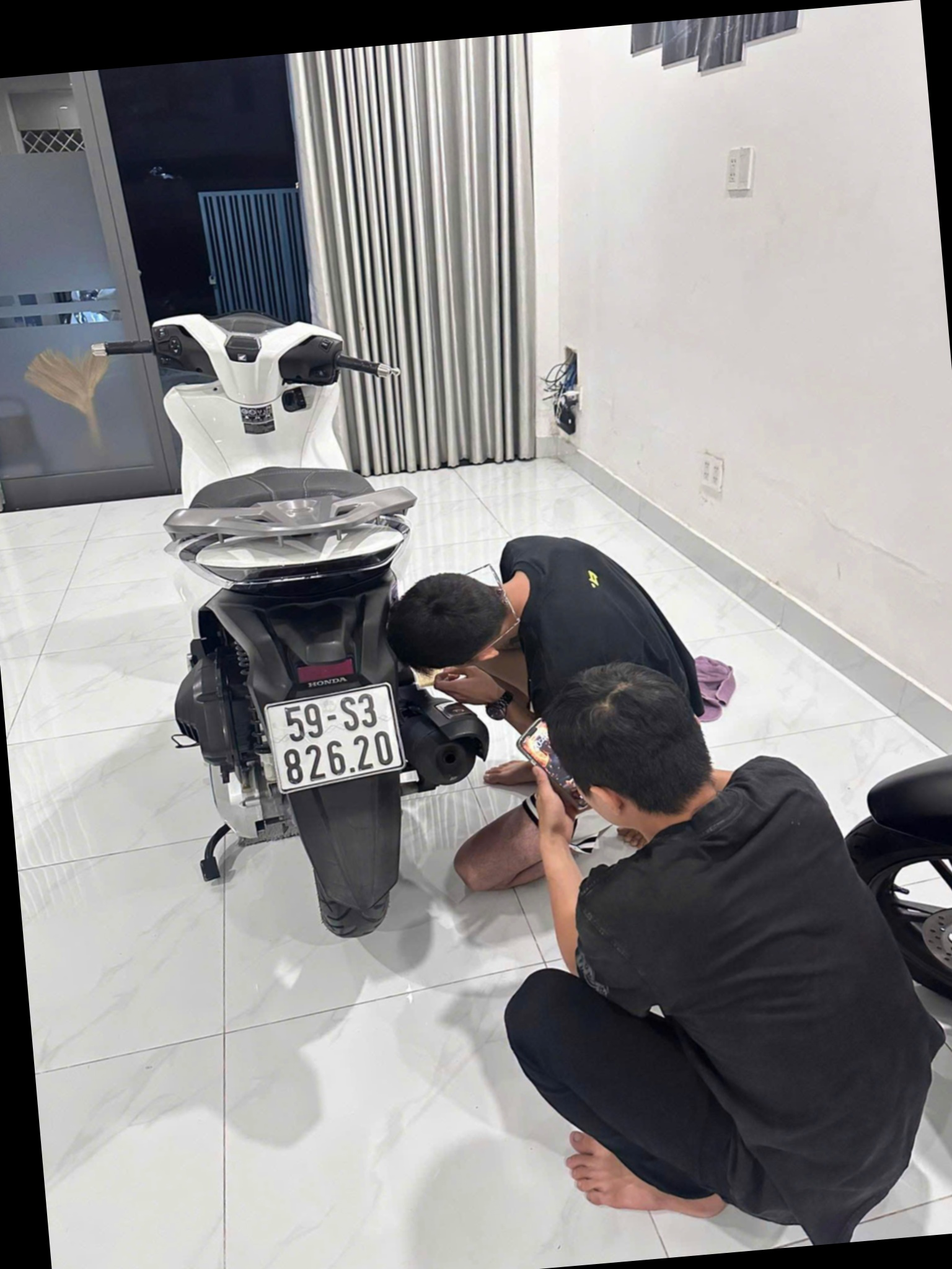Bien-so: (262, 687, 405, 799)
